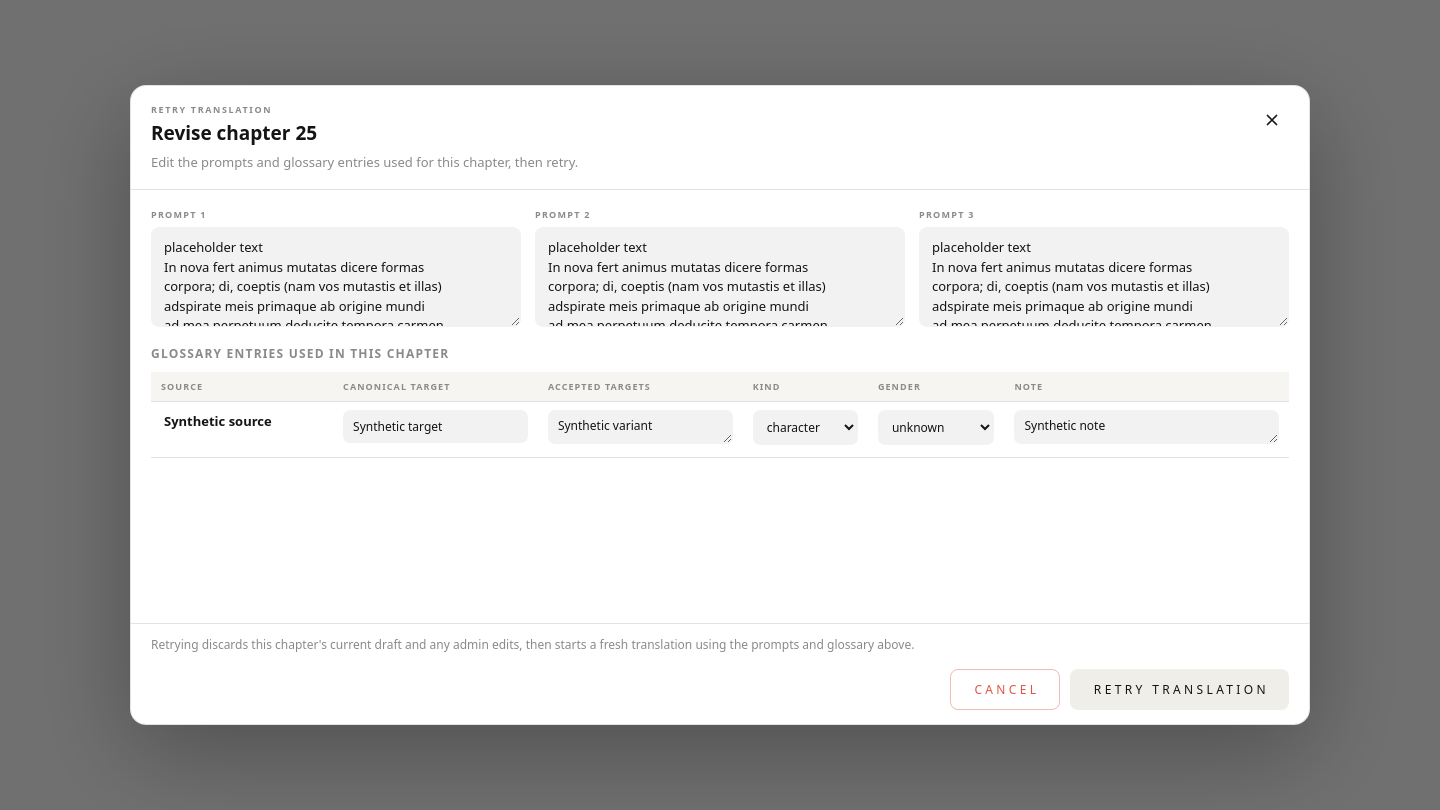
Test: keeps every glossary edit local without mutating the glossary prop
Replace the text in the field named "Canonical target for Synthetic source" with "Local target edit": (436, 427) top-left (343, 410), bottom-right (528, 443)
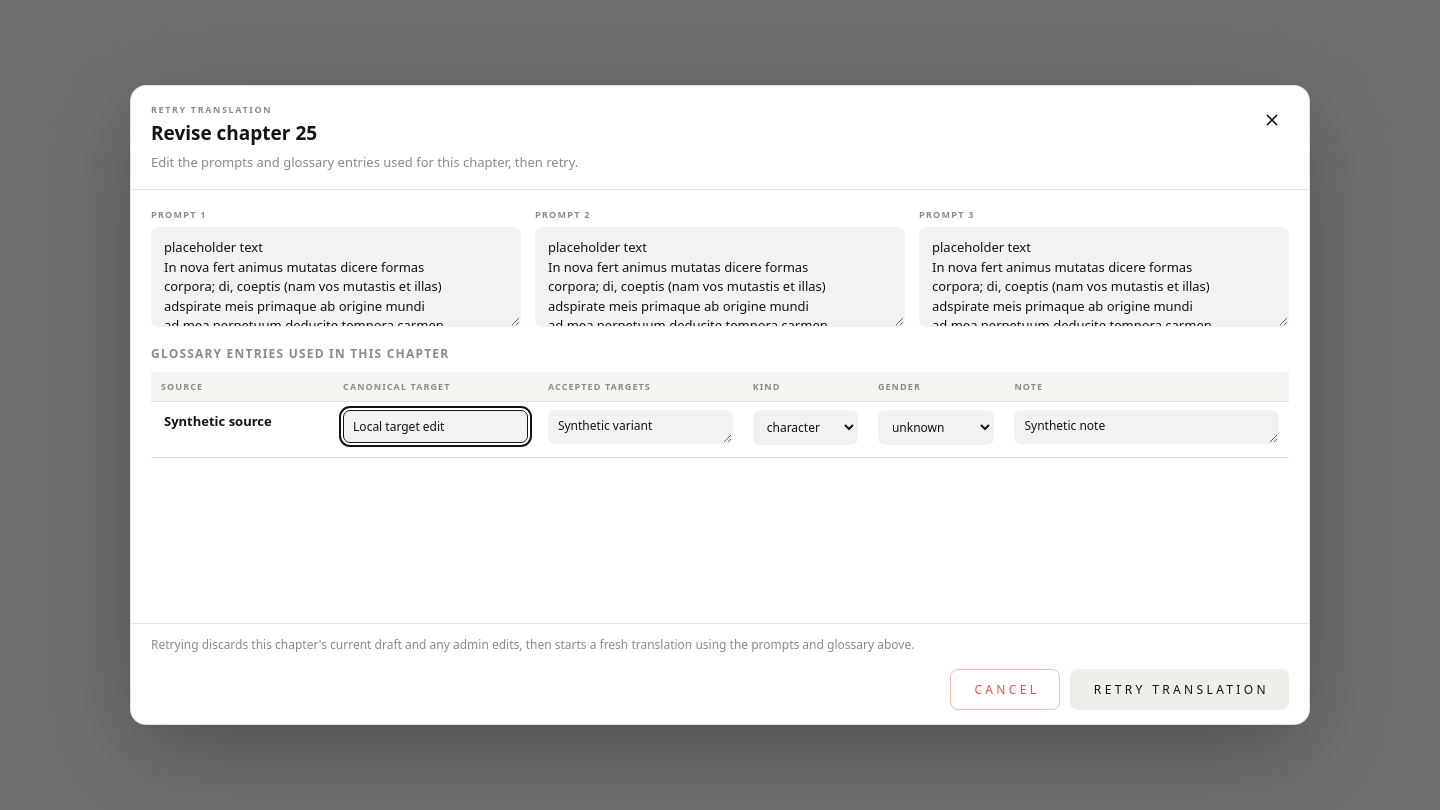
Replace the text in the 1st text box named "Accepted targets for Synthetic source" with "Local accepted edit": (640, 427) top-left (548, 410), bottom-right (733, 444)
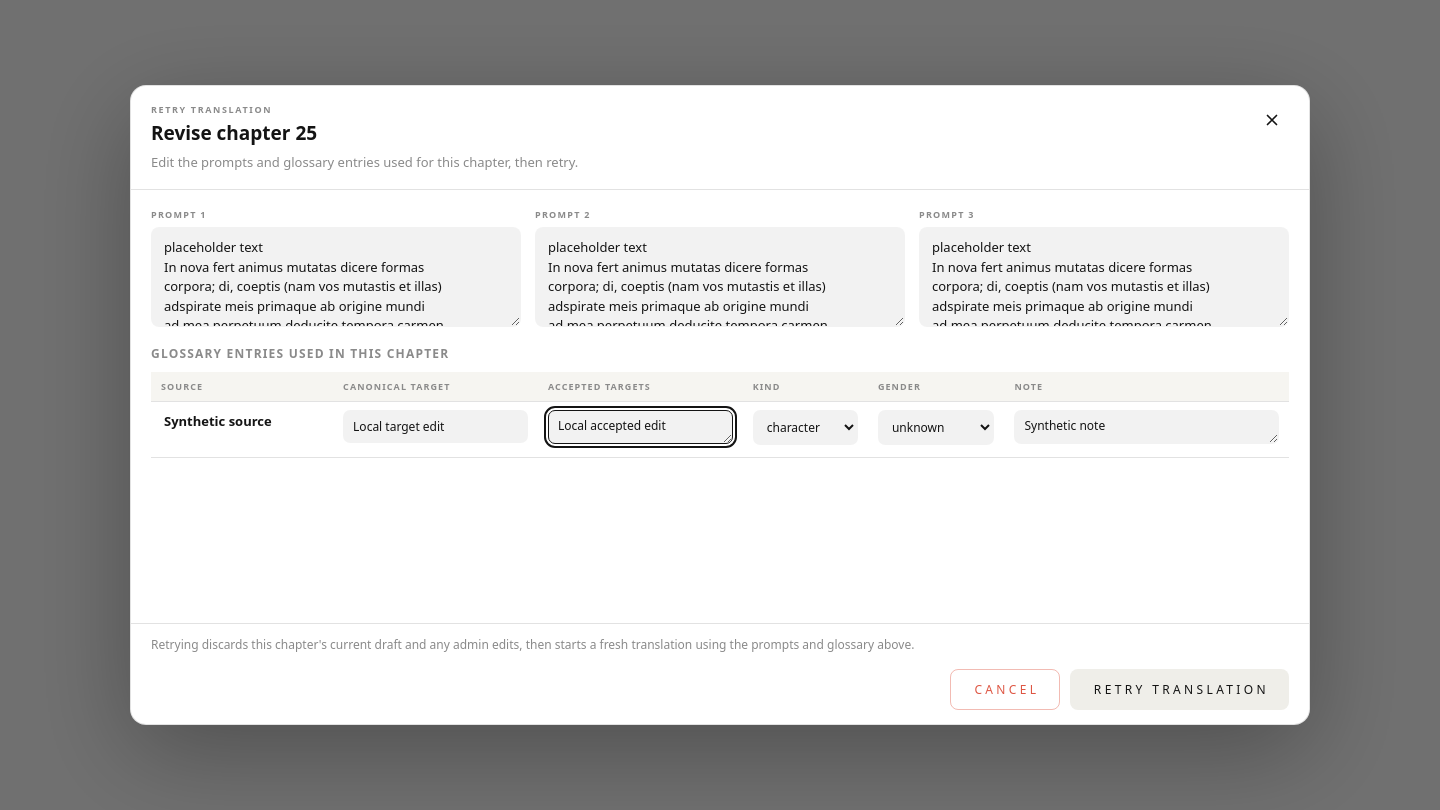
Select "female" in the 2nd dropdown named "Gender for Synthetic source": (936, 428) top-left (878, 410), bottom-right (994, 445)
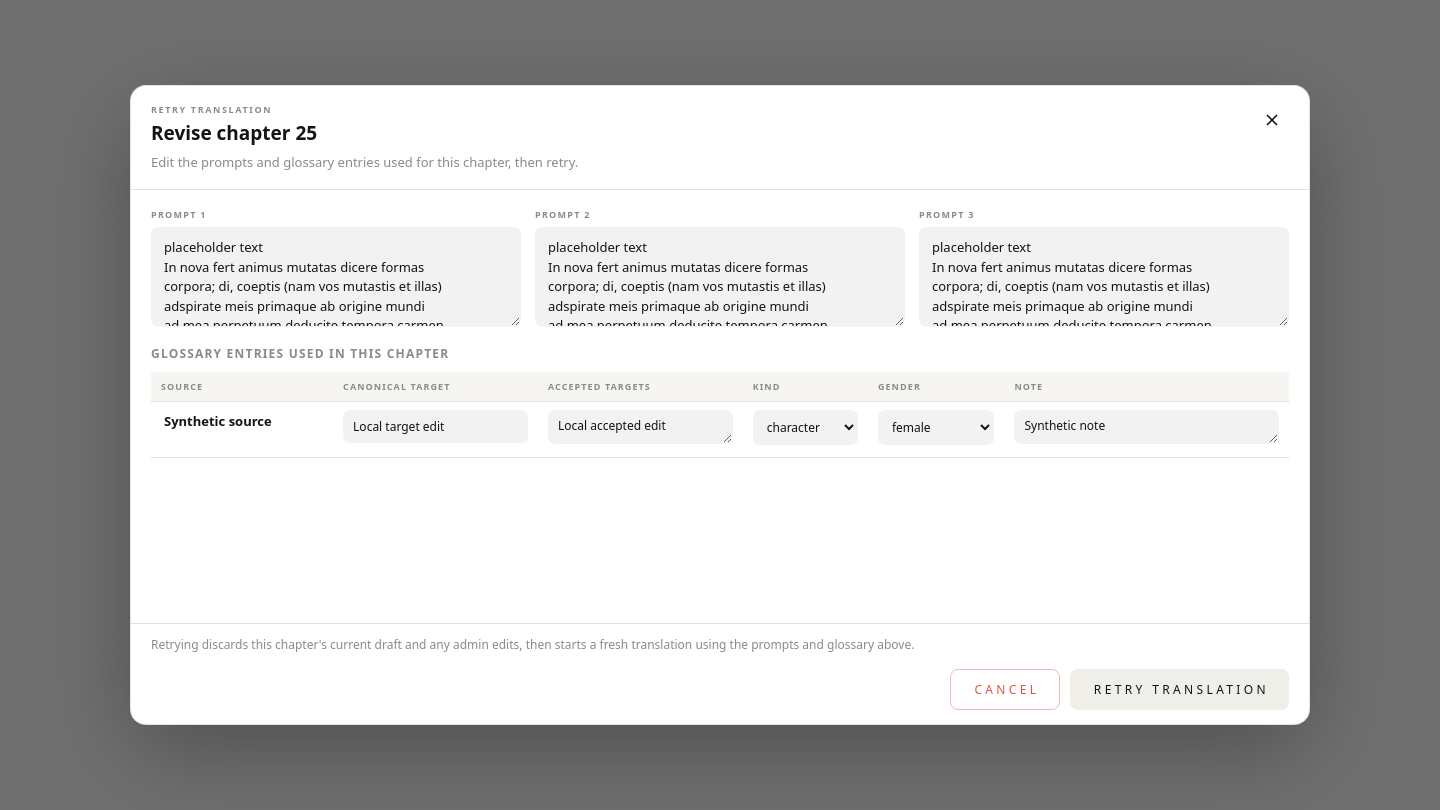
Select "term" in the 1st dropdown named "Kind for Synthetic source": (805, 428) top-left (753, 410), bottom-right (858, 445)
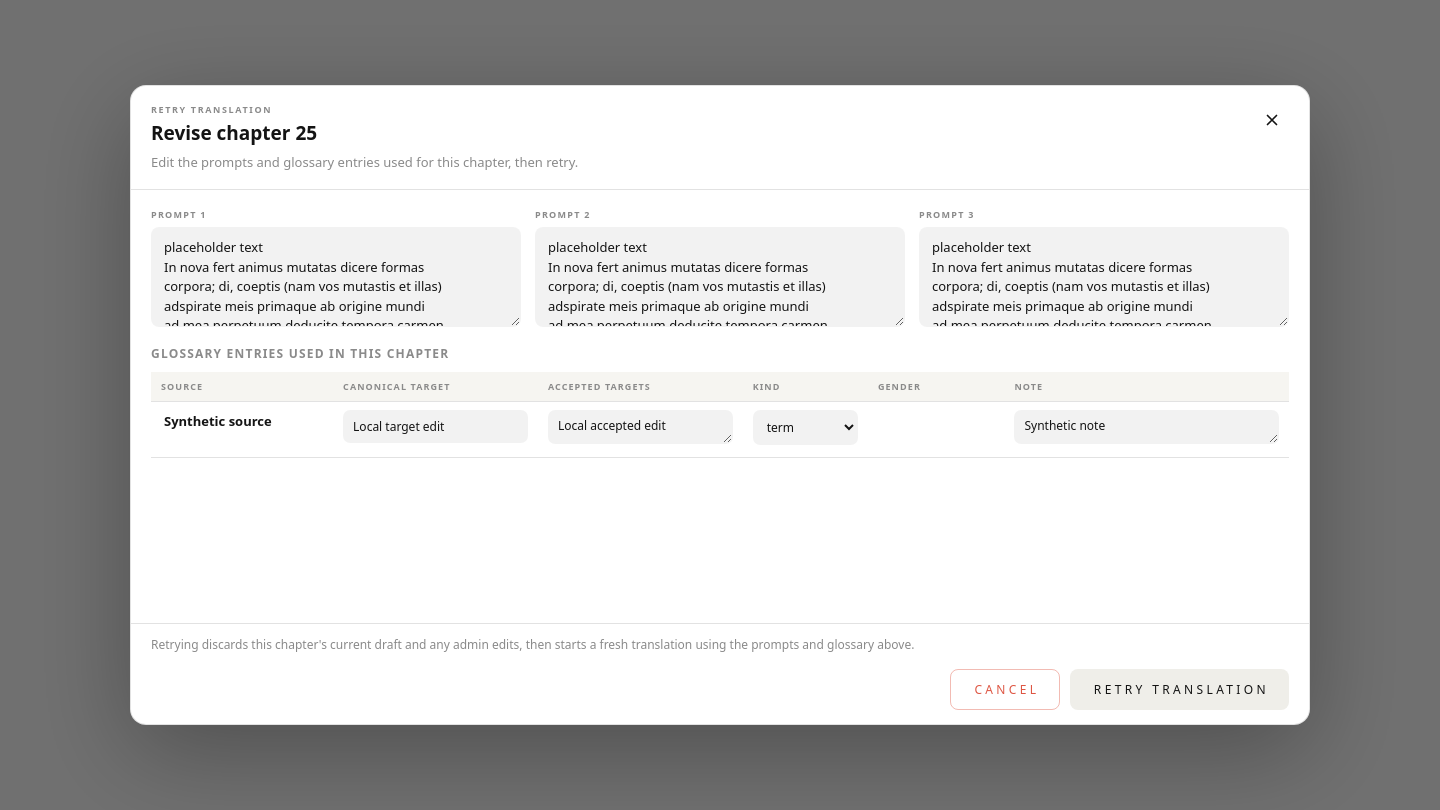
Replace the text in the 2nd text box named "Note for Synthetic source" with "Local note edit": (1147, 427) top-left (1014, 410), bottom-right (1279, 444)
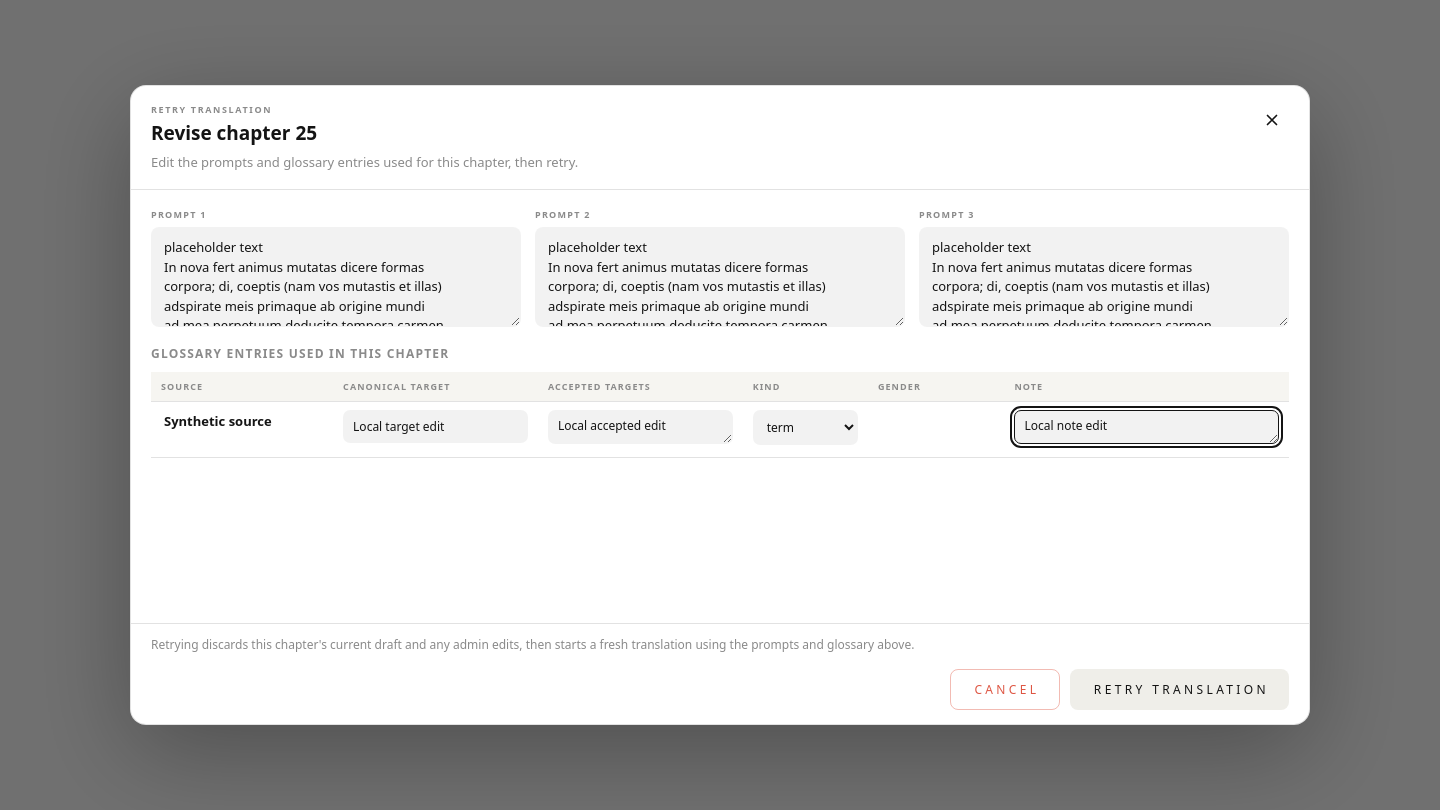
Click the row named "Toggle enabled state for Synthetic source. Currently enabled.": (720, 430) top-left (151, 402), bottom-right (1289, 458)
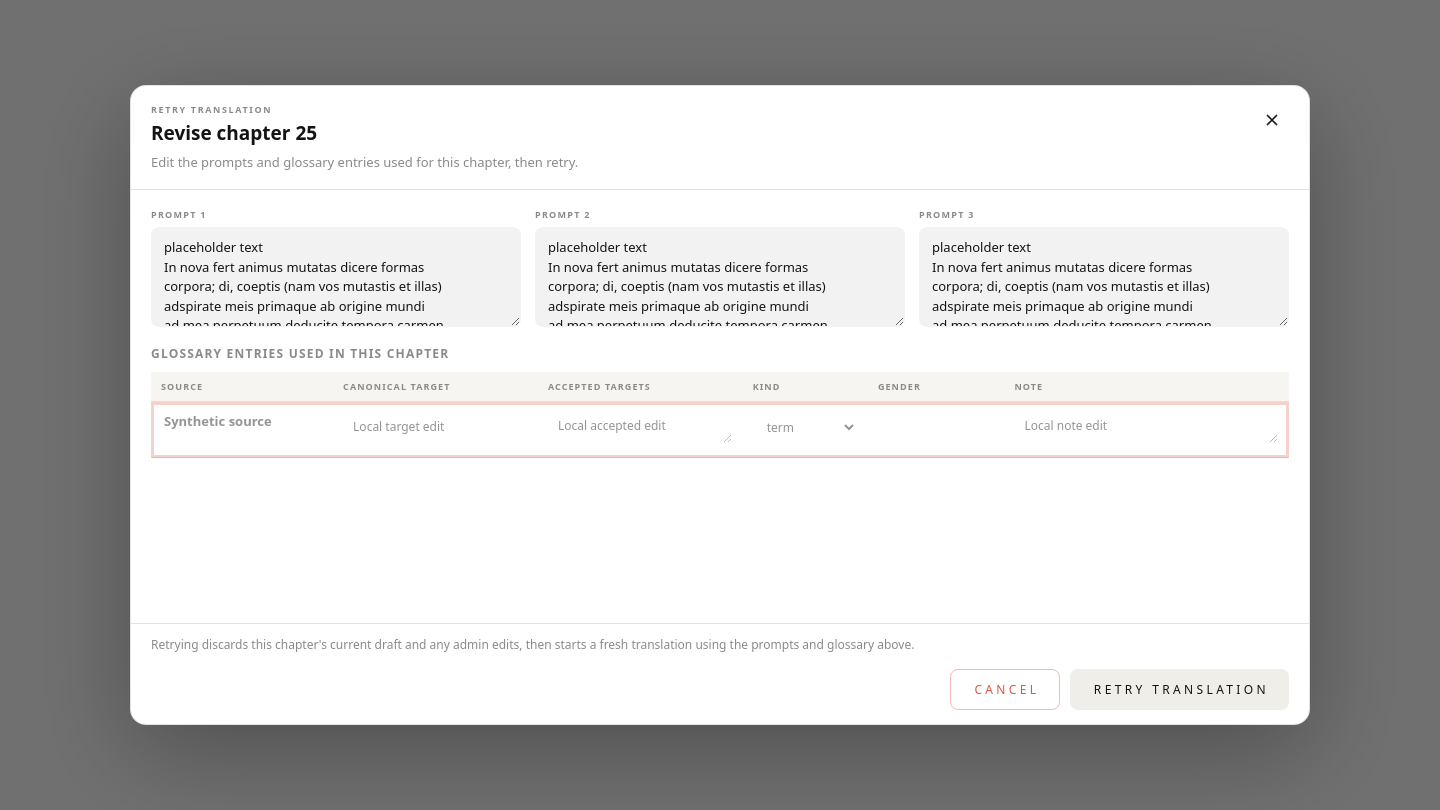
Result: the row named "Toggle enabled state for Synthetic source. Currently disabled." is shown at top-left (151, 402), bottom-right (1289, 458)
